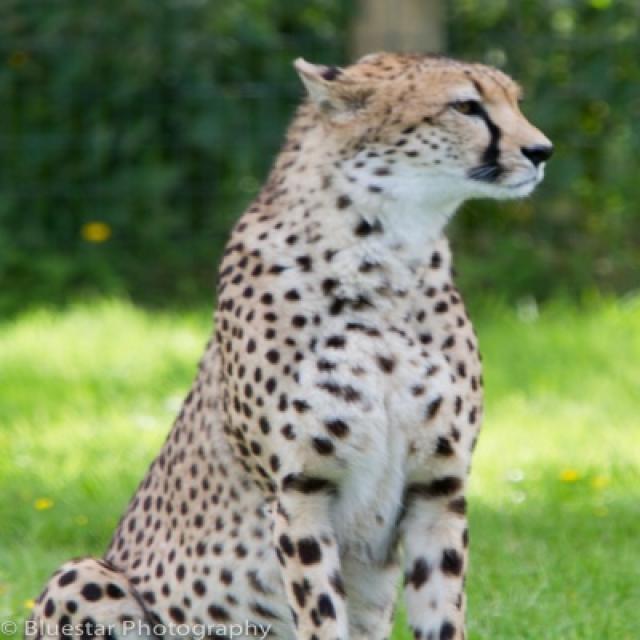Cheetah: (24, 53, 554, 638)
